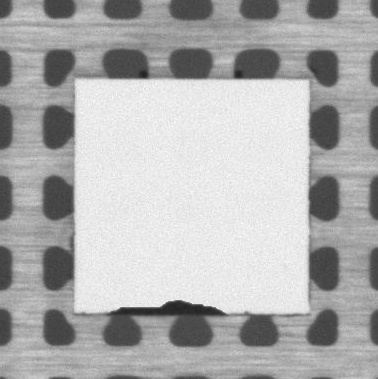DIE_BROKEN: (108, 299, 231, 316)
